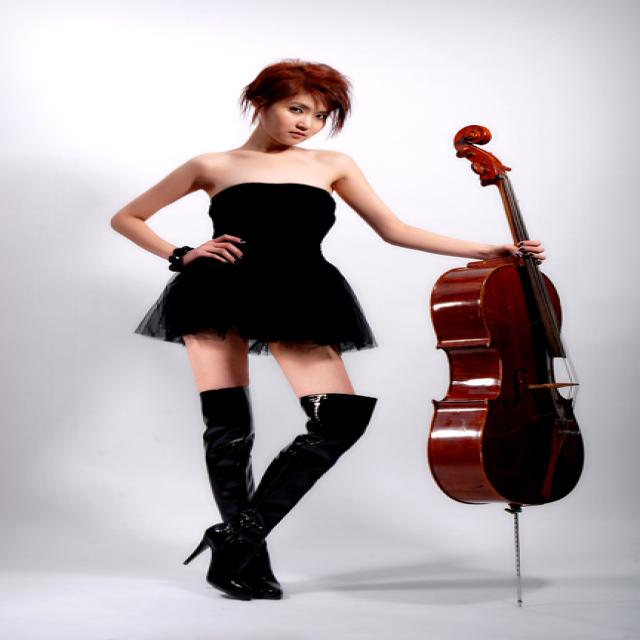cello: (418, 116, 592, 510)
